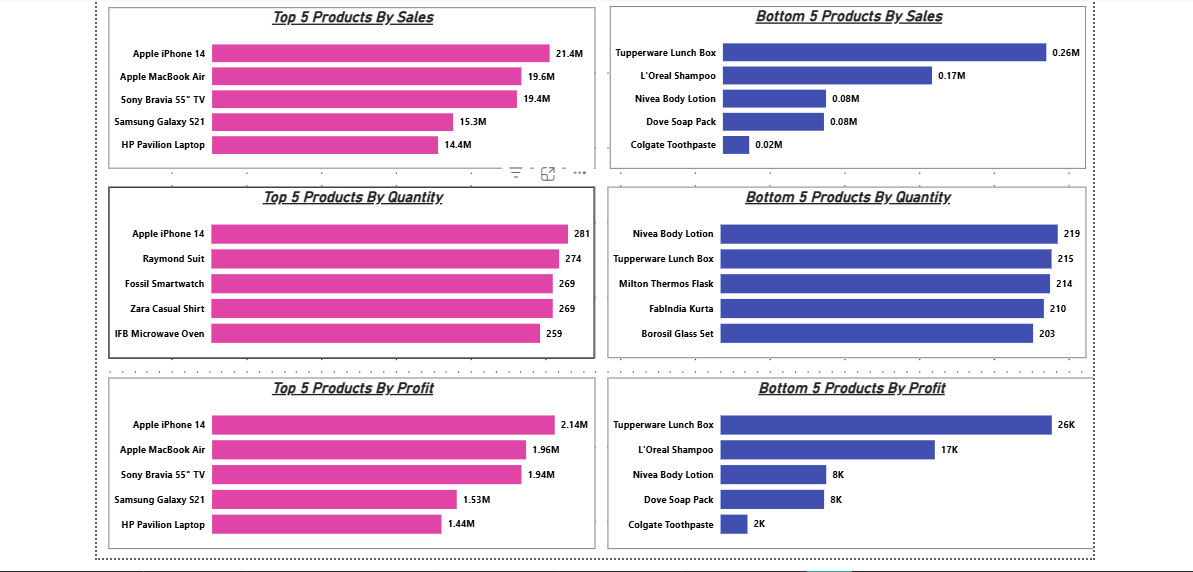

This screenshot's page, from the dashboard's own definition file:
{"tool":"powerbi","page":{"name":"Top/Bottom 5 Analysis","canvas":[1280,720],"ordinal":1},"visuals":[{"type":"barChart","title":"Top 5 Products By Sales","fields":{"Category":["Dim Product.Product Name"],"Y":["Sum(Fact Table.Net Sales     )"]},"box":[14.7,13.2,624.9,206.8],"z":0},{"type":"barChart","title":"Bottom 5 Products By Sales","fields":{"Category":["Dim Product.Product Name"],"Y":["Sum(Fact Table.Net Sales     )"]},"box":[658.6,11.7,611.7,208.3],"z":1000},{"type":"barChart","title":"Top 5 Products By Quantity","fields":{"Category":["Dim Product.Product Name"],"Y":["Sum(Fact Table.Units Sold)"]},"box":[14.7,243.5,624.9,220],"z":2000},{"type":"barChart","title":"Bottom 5 Products By Quantity","fields":{"Category":["Dim Product.Product Name"],"Y":["Sum(Fact Table.Units Sold)"]},"box":[655.7,243.5,614.6,220],"z":3000},{"type":"barChart","title":"Top 5 Products By Profit","fields":{"Category":["Dim Product.Product Name"],"Y":["Sum(Fact Table.Profit)"]},"box":[14.7,488.5,624.9,220],"z":4000},{"type":"barChart","title":"Bottom 5 Products By Profit","fields":{"Category":["Dim Product.Product Name"],"Y":["Sum(Fact Table.Profit)"]},"box":[655.7,488.5,624.9,220],"z":5000}]}

Visuals, with their boxes on the page's 1280x720 design canvas (x1, y1, x2, y2). These are canvas units, not pixel positions in the 1193x572 screenshot, which may show the page scaled, cropped or inside an application window:
"Top 5 Products By Sales" barChart: detection(15, 13, 640, 220)
"Bottom 5 Products By Sales" barChart: detection(659, 12, 1270, 220)
"Top 5 Products By Quantity" barChart: detection(15, 244, 640, 464)
"Bottom 5 Products By Quantity" barChart: detection(656, 244, 1270, 464)
"Top 5 Products By Profit" barChart: detection(15, 488, 640, 708)
"Bottom 5 Products By Profit" barChart: detection(656, 488, 1281, 708)
